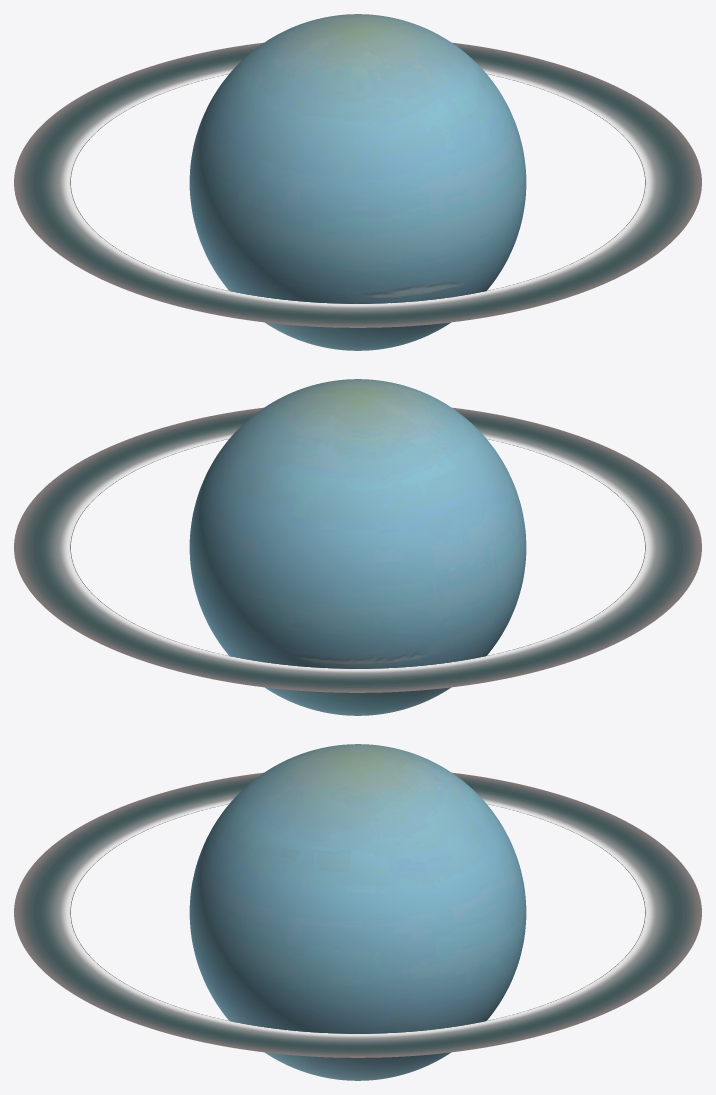
Rendered from uranus.fbx.
The picture shows the model from 3 angles, top to bottom: view 1: azimuth 30°, elevation 25°; view 2: azimuth 150°, elevation 25°; view 3: azimuth 270°, elevation 25°; orthographic projection.
Parts seen in each view (by area): view 1: node_id100, node_id102; view 2: node_id100, node_id102; view 3: node_id100, node_id102.
Part boxes in pixels (x1,y1,x2,y2): node_id100: (189, 14, 526, 350); node_id102: (14, 42, 701, 327); node_id100: (189, 379, 526, 715); node_id102: (14, 407, 701, 692); node_id100: (189, 744, 526, 1080); node_id102: (14, 772, 701, 1057).
Bounding box in the file's own units: 0.512 × 0.2506 × 0.512.
Materials: 2 (2 with a texture image).
